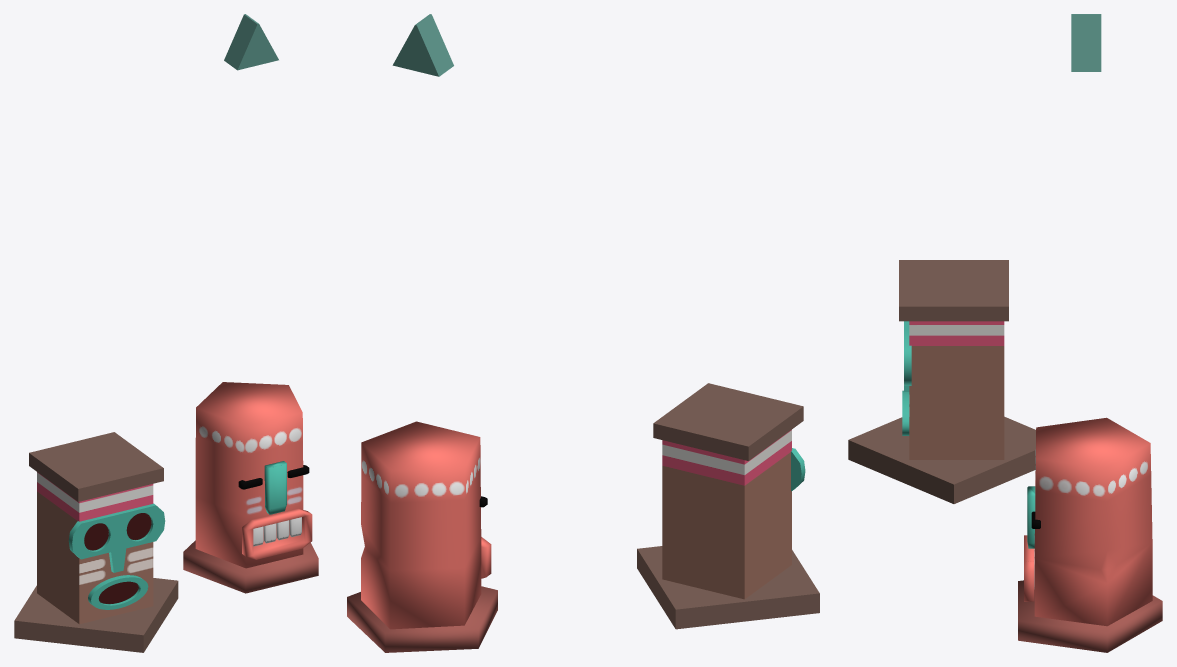
Rendered from totem poles and leaves.fbx.
3 views of the same model, side by side, from view 1: azimuth 30°, elevation 25°; view 2: azimuth 150°, elevation 25°; view 3: azimuth 270°, elevation 25° (orthographic). The views are drawn at different scales.
Parts seen in each view (by area): view 1: Cylinder.002, Circle, Cube.007, Cube.002, Cylinder.008, Cube.005; view 2: Cylinder.002, Circle, Cube.007, Cube.002, Cylinder.008, Cube.005; view 3: Cylinder.002, Circle, Cube.002, Cube.007, Cylinder.008, Cube.005.
Boxes of the visible parts, left/top/right/bottom form: Cylinder.002: left=195, top=382, right=312, bottom=568; Circle: left=37, top=472, right=165, bottom=624; Cube.007: left=29, top=432, right=163, bottom=501; Cube.002: left=14, top=578, right=178, bottom=652; Cylinder.008: left=183, top=540, right=318, bottom=593; Cube.005: left=224, top=14, right=278, bottom=70; Cylinder.002: left=361, top=421, right=491, bottom=629; Circle: left=662, top=429, right=805, bottom=599; Cube.007: left=653, top=383, right=803, bottom=460; Cube.002: left=637, top=546, right=819, bottom=629; Cylinder.008: left=347, top=586, right=497, bottom=652; Cube.005: left=392, top=14, right=453, bottom=76; Cylinder.002: left=1024, top=417, right=1152, bottom=626; Circle: left=902, top=321, right=1004, bottom=459; Cube.002: left=848, top=416, right=1035, bottom=503; Cube.007: left=899, top=260, right=1008, bottom=321; Cylinder.008: left=1018, top=580, right=1162, bottom=652; Cube.005: left=1071, top=14, right=1101, bottom=71.
Size of the model in its own units: 800 by 1168 by 549.
Materials: 6 (2 with a texture image).
